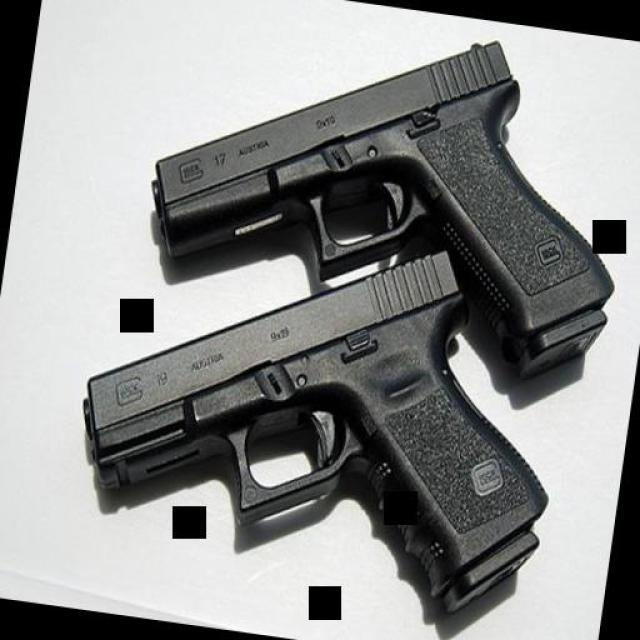gun: (56, 199, 584, 640), (129, 0, 640, 386)
